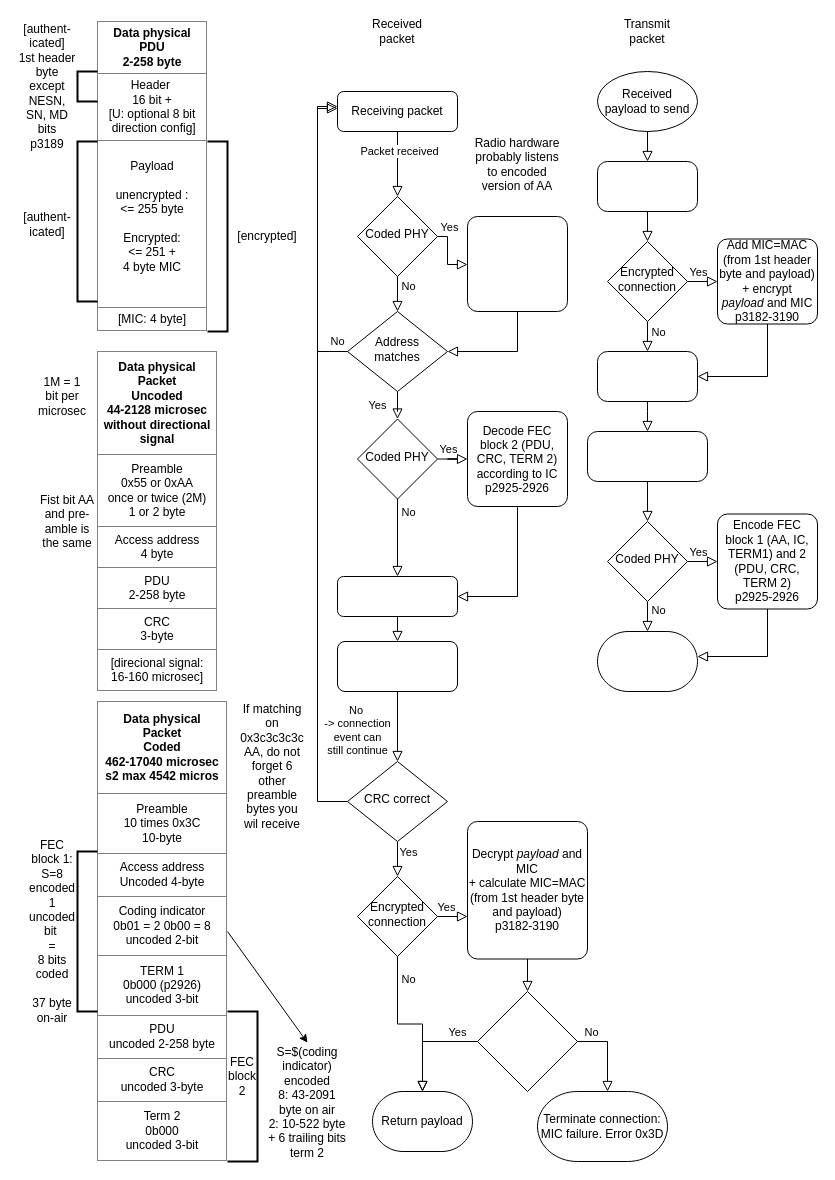
This 835x1180 diagram has some shape labels left out. The shapes that lost their labels are listed below. From the top down, each one's box as (x1, y1, x2, y2) in pixels, then its label:
(596, 160, 698, 212): Generate PDU header
(466, 216, 568, 312): Decode FEC block 1 (AA, IC, TERM1) with S=8 p2925-2926
(596, 350, 698, 402): Calculate CRC over PDU and append it P.2923
(586, 430, 708, 482): Whiten PDU + CRC (p.2924-2925)
(336, 576, 458, 616): Dewhiten PDU + CRC (p.2924-2925)
(336, 640, 458, 692): Calculate CRC over PDU (incl. header, p2923)
(596, 630, 698, 692): Send packet
(476, 990, 578, 1092): MIC correct
